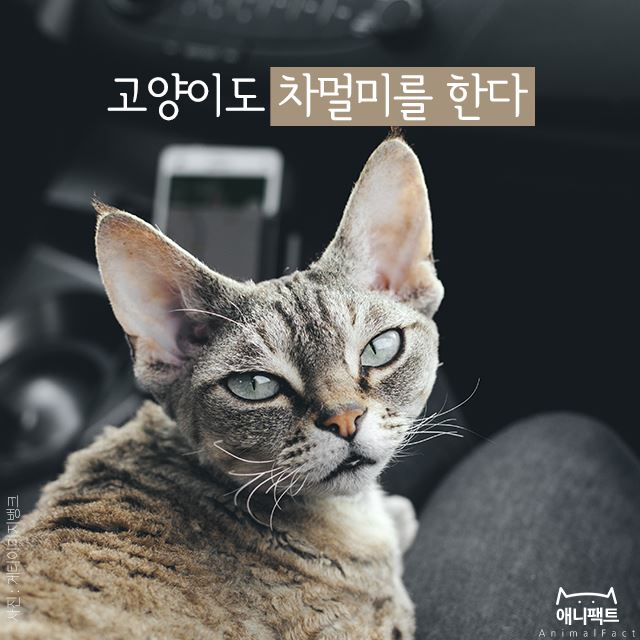cat: (101, 133, 465, 513)
cat-face: (81, 131, 482, 515)
